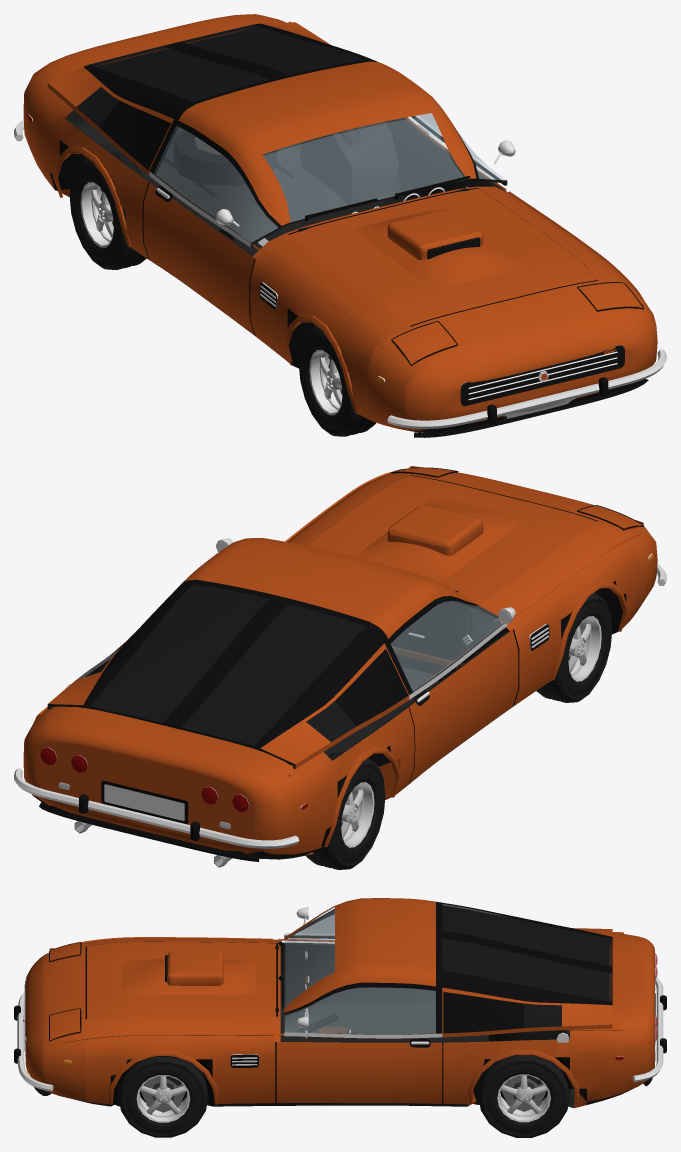
File: ventura_gt_lod2.glb
3 views of the same model, one above another, from view 1: azimuth 30°, elevation 25°; view 2: azimuth 150°, elevation 25°; view 3: azimuth 270°, elevation 25° (orthographic). The views are drawn at different scales.
Parts seen in each view (by area): view 1: ventura_gt, door_R, hood, hatch, wheel_RR, hood_bulge, wheel_FR, door_L, hood_scoop, spare_wheel, popup_R, popup_L; view 2: ventura_gt, hatch, door_R, hood, hood_bulge, wheel_RR, wheel_FR, hood_scoop, popup_R; view 3: ventura_gt, door_L, hatch, hood, wheel_RL, wheel_FL, door_R, hood_bulge, hood_scoop, popup_L, spare_wheel, popup_R.
Part boxes in pixels (bbox=[...]): ventura_gt: bbox=[14, 14, 666, 437]; door_R: bbox=[143, 119, 281, 334]; hood: bbox=[289, 188, 597, 325]; hatch: bbox=[83, 23, 378, 120]; wheel_RR: bbox=[69, 152, 146, 269]; hood_bulge: bbox=[352, 208, 527, 291]; wheel_FR: bbox=[298, 326, 375, 436]; door_L: bbox=[406, 113, 515, 197]; hood_scoop: bbox=[387, 209, 483, 260]; spare_wheel: bbox=[173, 130, 276, 185]; popup_R: bbox=[391, 321, 457, 366]; popup_L: bbox=[577, 282, 643, 311]; ventura_gt: bbox=[14, 471, 666, 867]; hatch: bbox=[83, 580, 387, 750]; door_R: bbox=[384, 596, 518, 783]; hood: bbox=[306, 475, 597, 605]; hood_bulge: bbox=[356, 497, 525, 580]; wheel_RR: bbox=[306, 752, 385, 869]; wheel_FR: bbox=[536, 592, 612, 702]; hood_scoop: bbox=[387, 505, 483, 556]; popup_R: bbox=[577, 505, 644, 530]; ventura_gt: bbox=[14, 898, 666, 1107]; door_L: bbox=[276, 982, 442, 1103]; hatch: bbox=[436, 901, 612, 1005]; hood: bbox=[87, 942, 276, 1018]; wheel_RL: bbox=[478, 1055, 570, 1137]; wheel_FL: bbox=[118, 1056, 208, 1137]; door_R: bbox=[278, 907, 435, 1004]; hood_bulge: bbox=[121, 959, 255, 995]; hood_scoop: bbox=[165, 951, 223, 985]; popup_L: bbox=[49, 1008, 81, 1041]; spare_wheel: bbox=[488, 1030, 566, 1041]; popup_R: bbox=[49, 942, 81, 962].
Bounding box in the file's own units: 1.91 × 1.25 × 4.62.
Materials: 39 (5 with a texture image).
